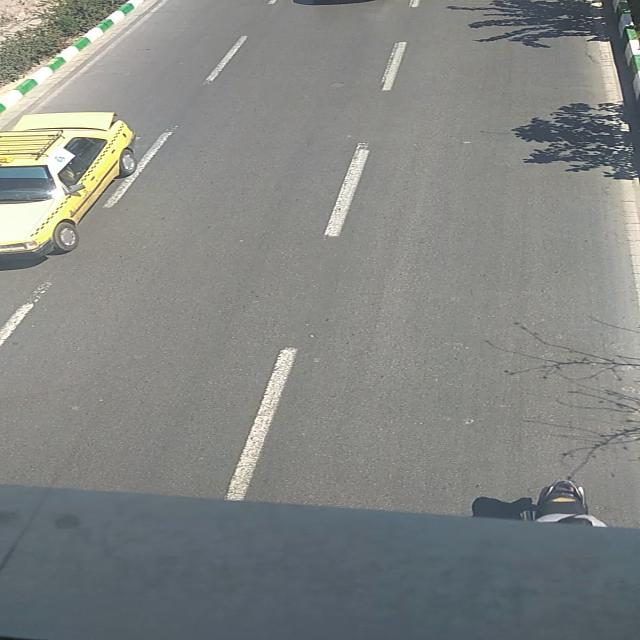car: (0, 110, 139, 259)
